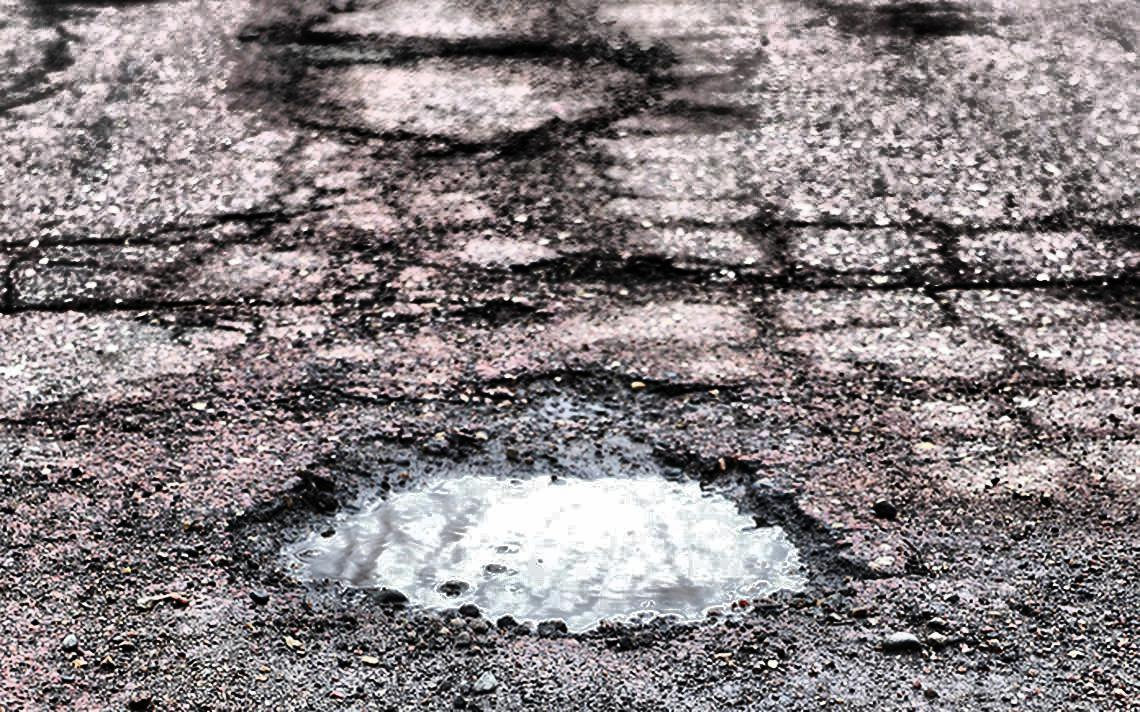pothole: (240, 442, 838, 652)
